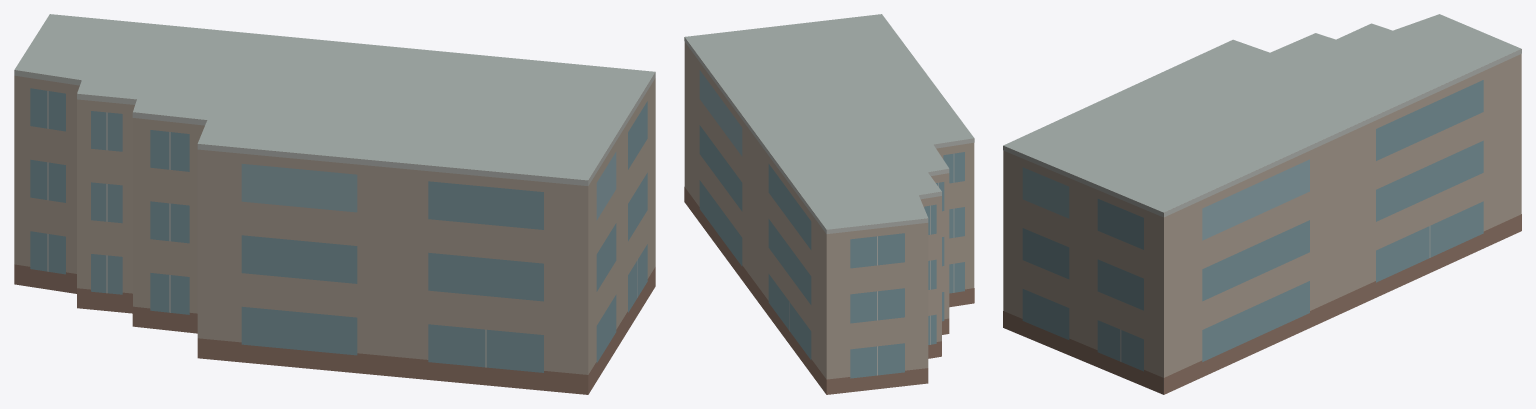
The model's file is survey-upis-32462533.glb.
The picture shows the model from 3 angles, left to right: view 1: azimuth 30°, elevation 25°; view 2: azimuth 150°, elevation 25°; view 3: azimuth 270°, elevation 25°; orthographic projection. The views are drawn at different scales.
Parts seen in each view (by area): view 1: survey-upis-32462533.tmp; view 2: survey-upis-32462533.tmp; view 3: survey-upis-32462533.tmp.
Boxes of the visible parts, x1,y1,x2,y2 form: survey-upis-32462533.tmp: (14,14,655,394); survey-upis-32462533.tmp: (684,14,974,394); survey-upis-32462533.tmp: (1003,14,1521,394).
Bounding box in the file's own units: 21.4 × 9.15 × 23.61.
